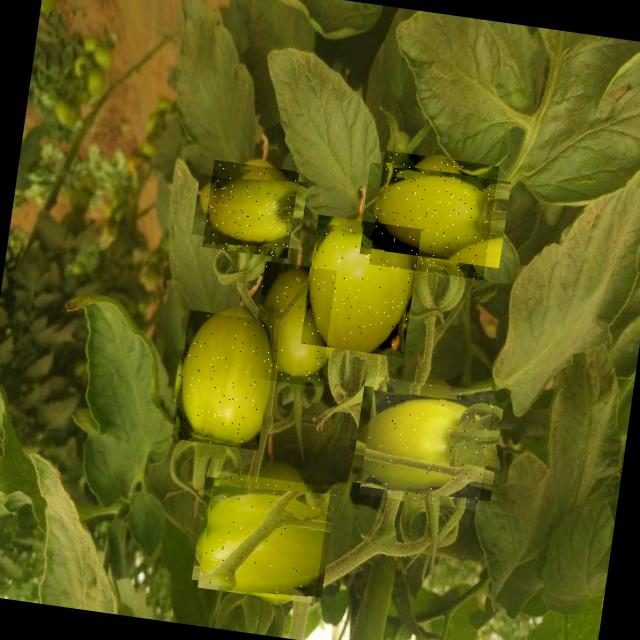Unripe Tomato: (360, 376, 494, 511), (198, 471, 331, 604), (300, 215, 421, 358), (369, 150, 499, 280), (168, 310, 276, 450), (248, 260, 336, 388), (200, 160, 298, 258)
